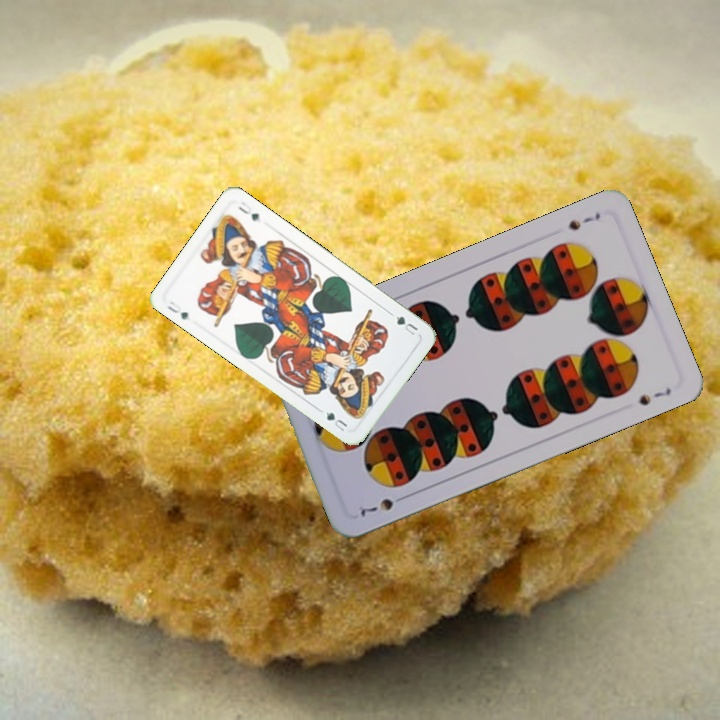GU: (391, 312, 421, 338), (163, 297, 191, 322)
S7: (353, 491, 410, 519), (564, 208, 603, 233)
